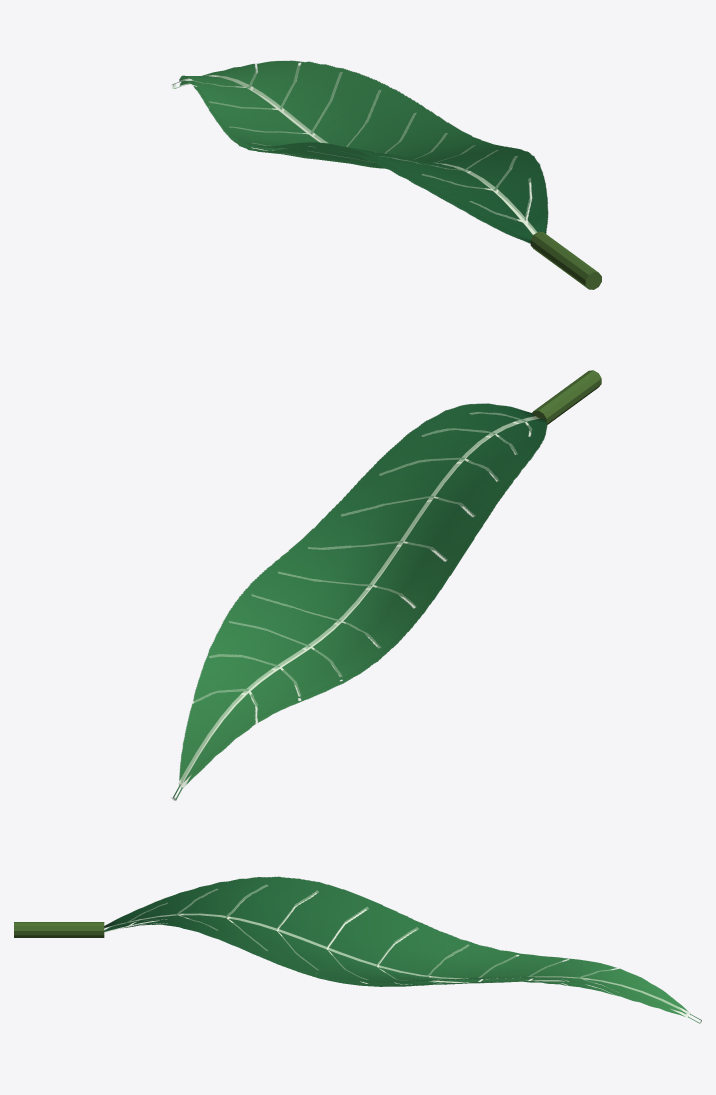
The model's file is leaf-guayusa.glb.
The picture shows the model from 3 angles, top to bottom: view 1: azimuth 30°, elevation 25°; view 2: azimuth 150°, elevation 25°; view 3: azimuth 270°, elevation 25°; orthographic projection. The views are drawn at different scales.
Visible parts, largest first — view 1: leaf-guayusa, Cylinder; view 2: leaf-guayusa, Cylinder; view 3: leaf-guayusa, Cylinder.
Part boxes in pixels (bbox=[...]): leaf-guayusa: bbox=[172, 60, 548, 243]; Cylinder: bbox=[530, 231, 601, 289]; leaf-guayusa: bbox=[171, 403, 547, 800]; Cylinder: bbox=[531, 370, 601, 424]; leaf-guayusa: bbox=[104, 876, 701, 1023]; Cylinder: bbox=[14, 922, 104, 937].
Size of the model in its own units: 0.3034 by 0.1585 by 0.685.
Materials: 2 (1 with a texture image).
